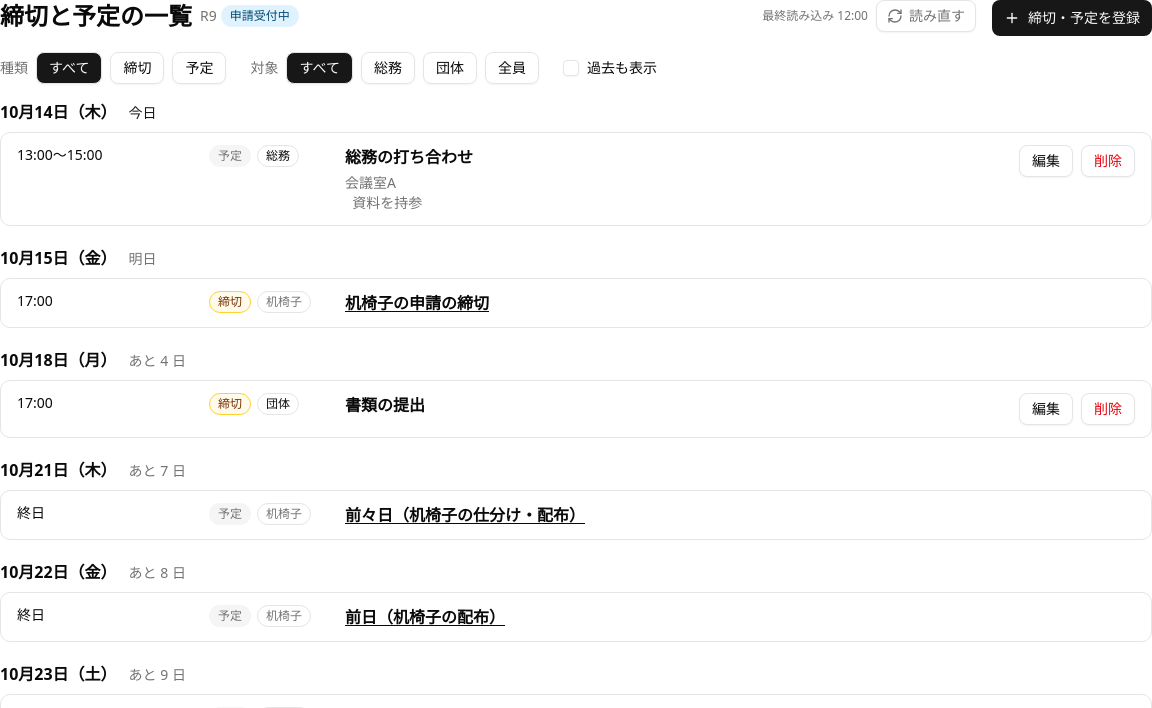
T18 ダイアログ：登録 › 欄の誤りは欄の下に出して送らない（題名・開始の日時・終わりが前）
The image size is (1152, 708).
Check: the list item with test id "calendar-item" showing "総務の打ち合わせ 会議室A 資料を持参 編集 削除" is shown, box [345,145,1135,212]
Click the button with test id "calendar-add" at (1072, 18), box [992,0,1151,36]
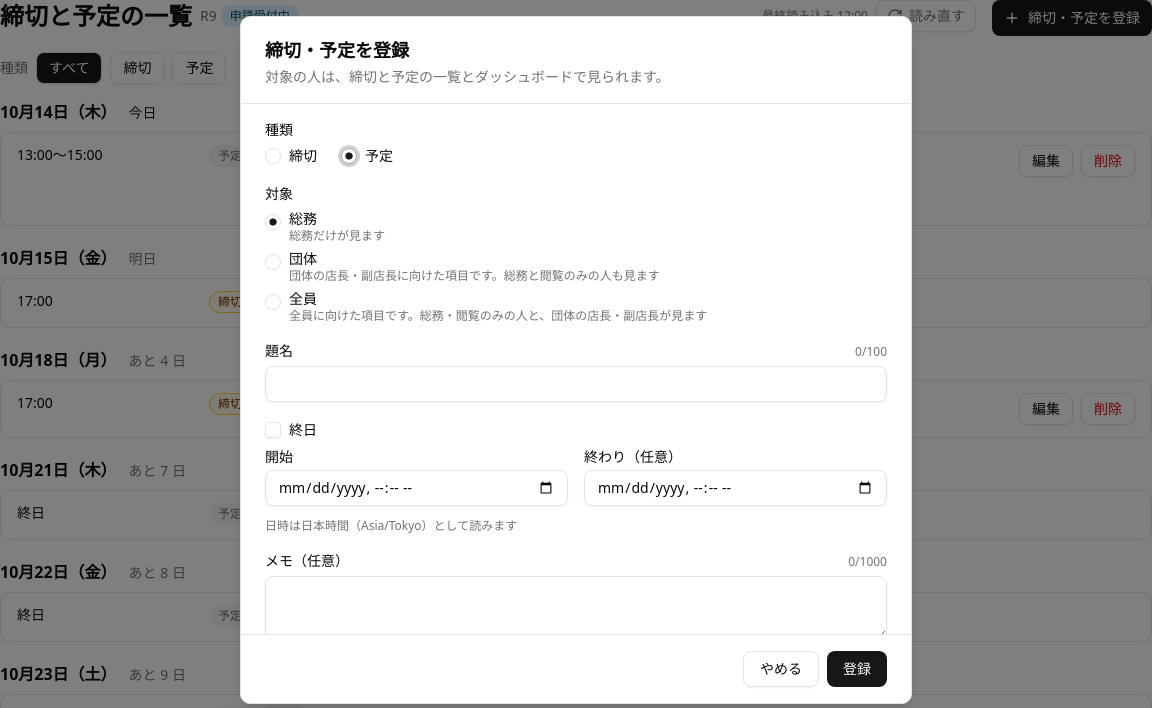
Click the button with test id "event-submit" at (857, 669), box [827,651,887,687]
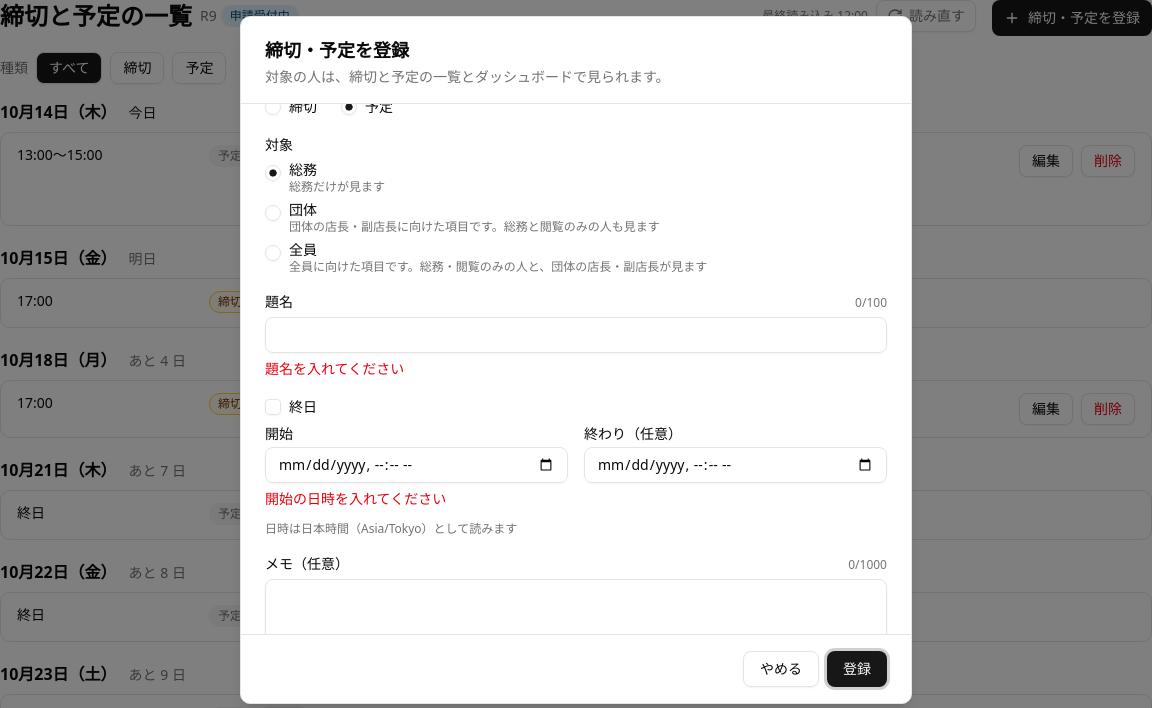
Check: the text "題名を入れてください" is shown, box [265,359,404,378]
Check: the text "開始の日時を入れてください" is shown, box [265,489,446,508]
Type "2027-10-17T13:00" into the field with test id "event-start" at (416, 465), box [265,447,568,483]
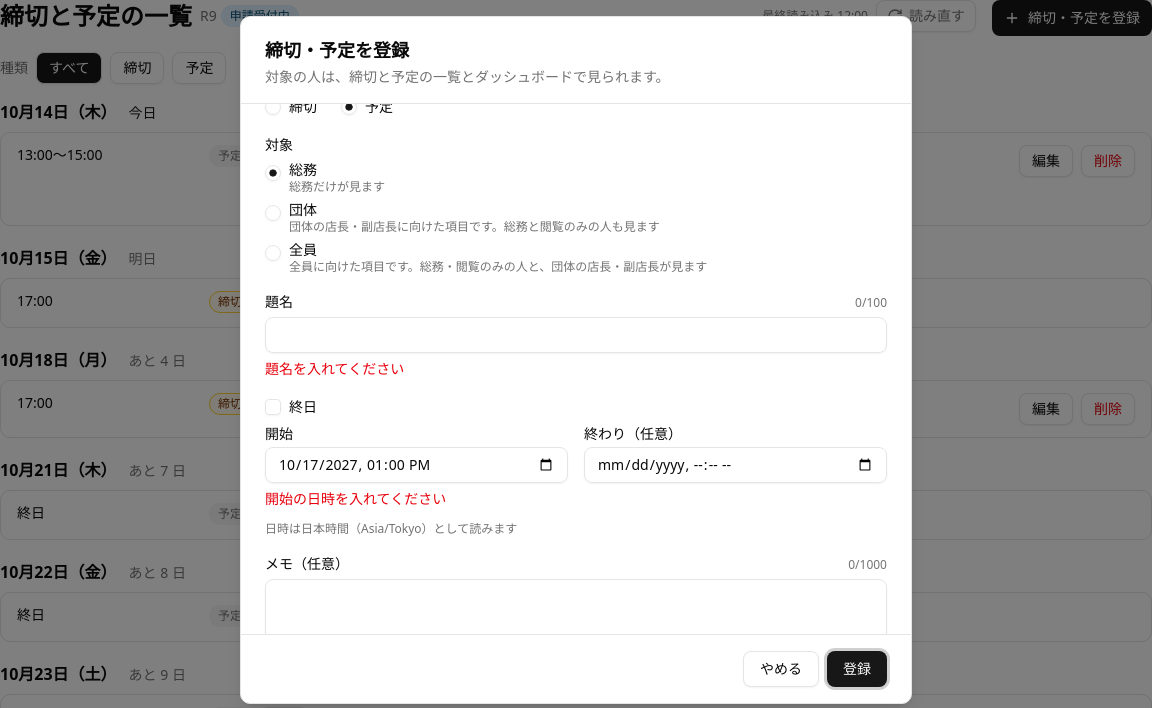
Type "2027-10-17T12:00" into the field with test id "event-end" at (736, 465), box [584,447,887,483]
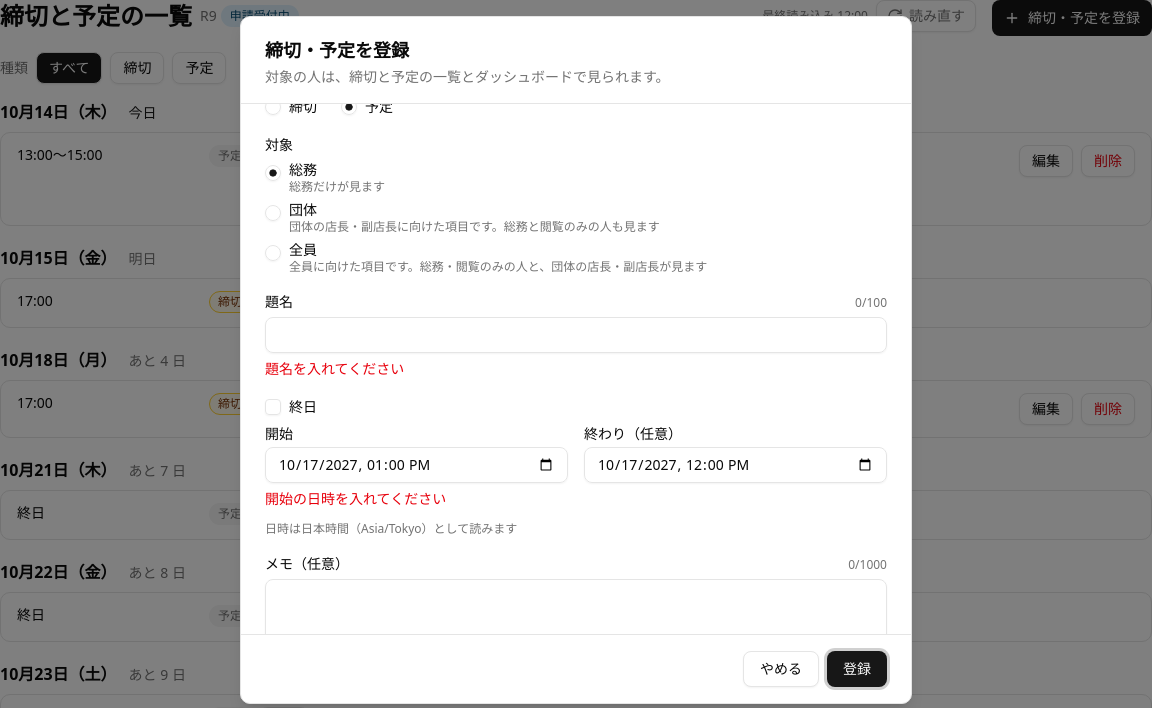
Type "a" into the field labelled "題名" at (576, 335), box [265,317,887,353]
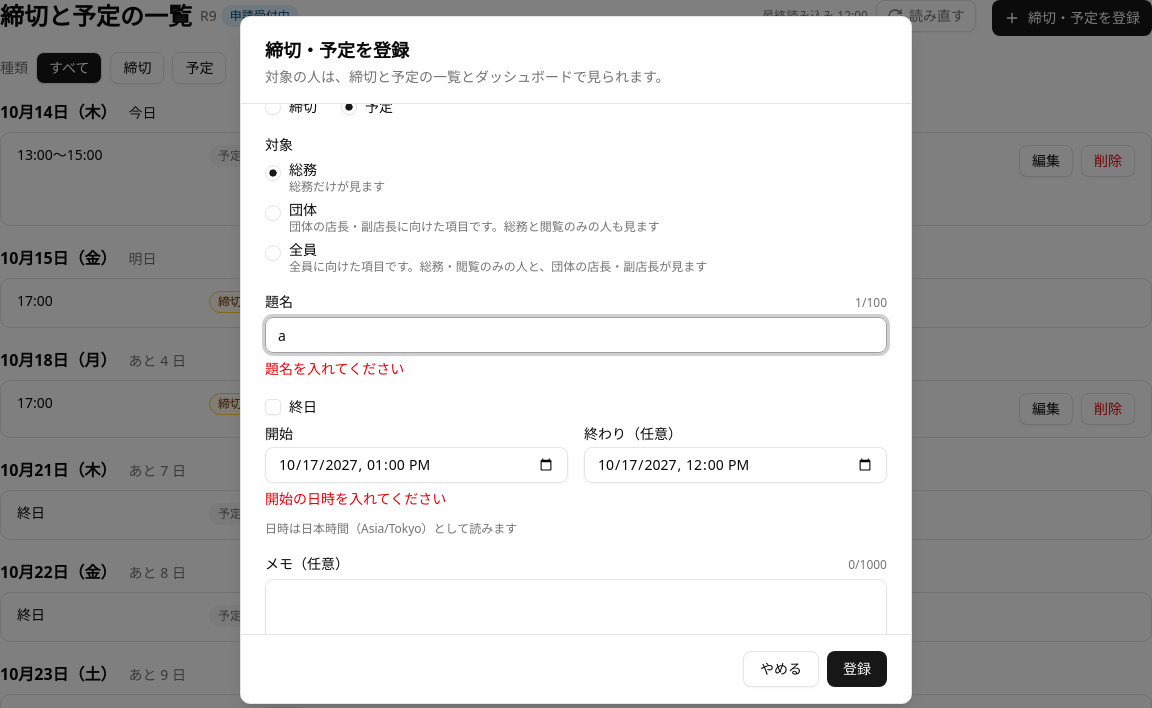
Click the button with test id "event-submit" at (857, 669), box [827,651,887,687]
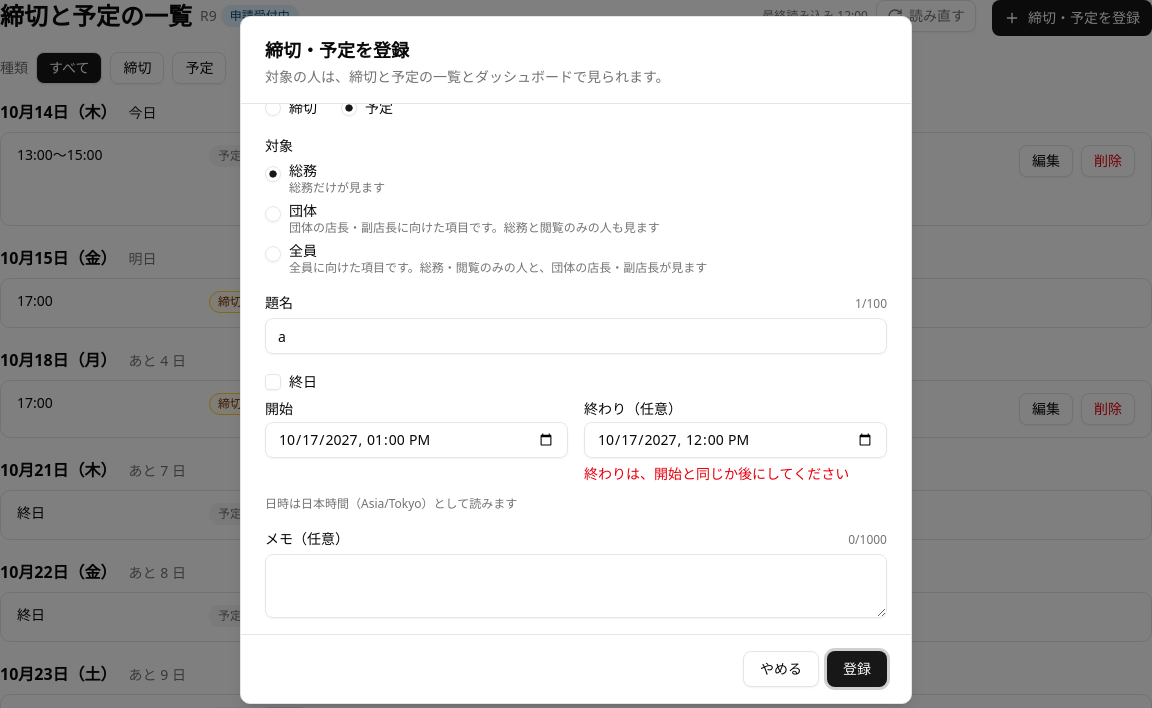
Check: the text "終わりは、開始と同じか後にしてください" is shown, box [584,464,887,484]
Check: the text "題名を入れてください" is gone
